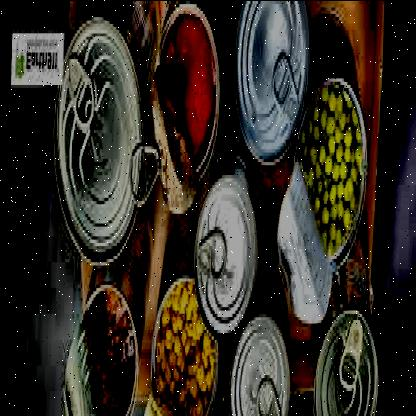Can: (50, 0, 162, 262), (229, 0, 309, 168), (191, 171, 259, 348), (306, 304, 381, 416), (224, 310, 294, 416)
